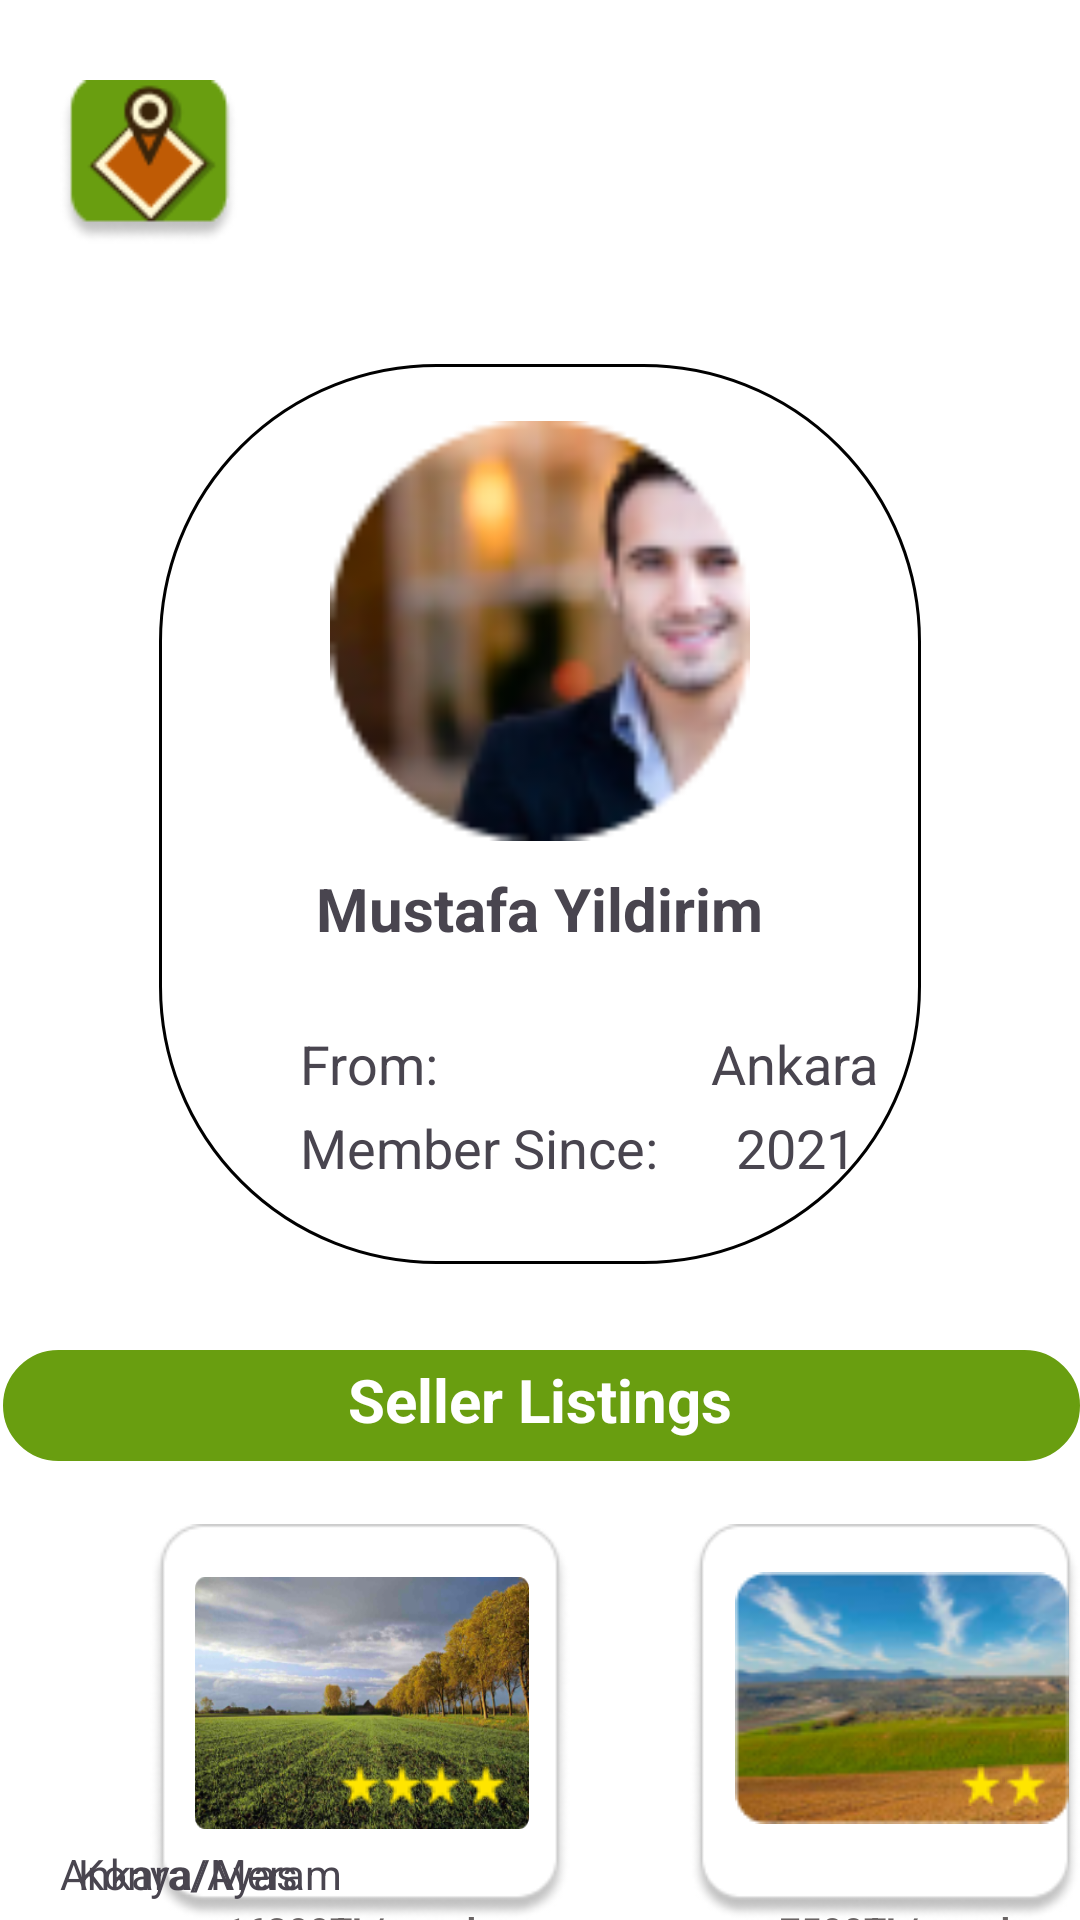

Named icons in this screenshot (1080px×1920px) and their centers, point (x, y):
star: point (360, 1785), point (402, 1785), point (441, 1785), point (486, 1785), point (981, 1785), point (1026, 1785)
